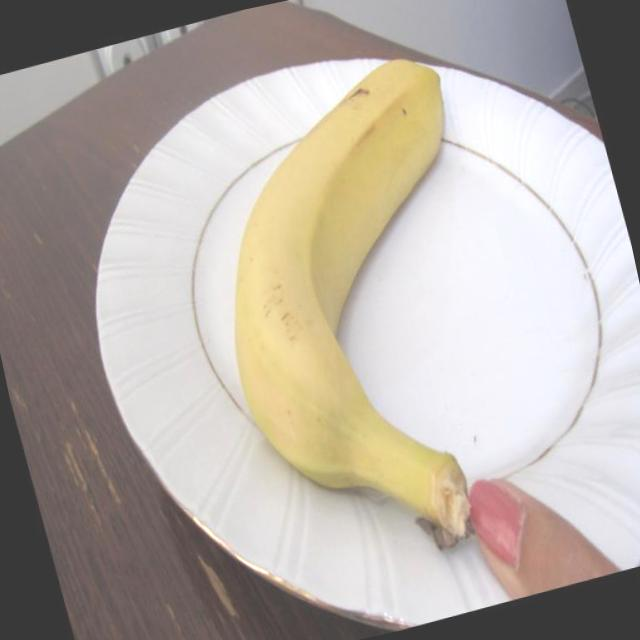Banana: (162, 28, 568, 593)
Finger: (456, 446, 614, 607)
